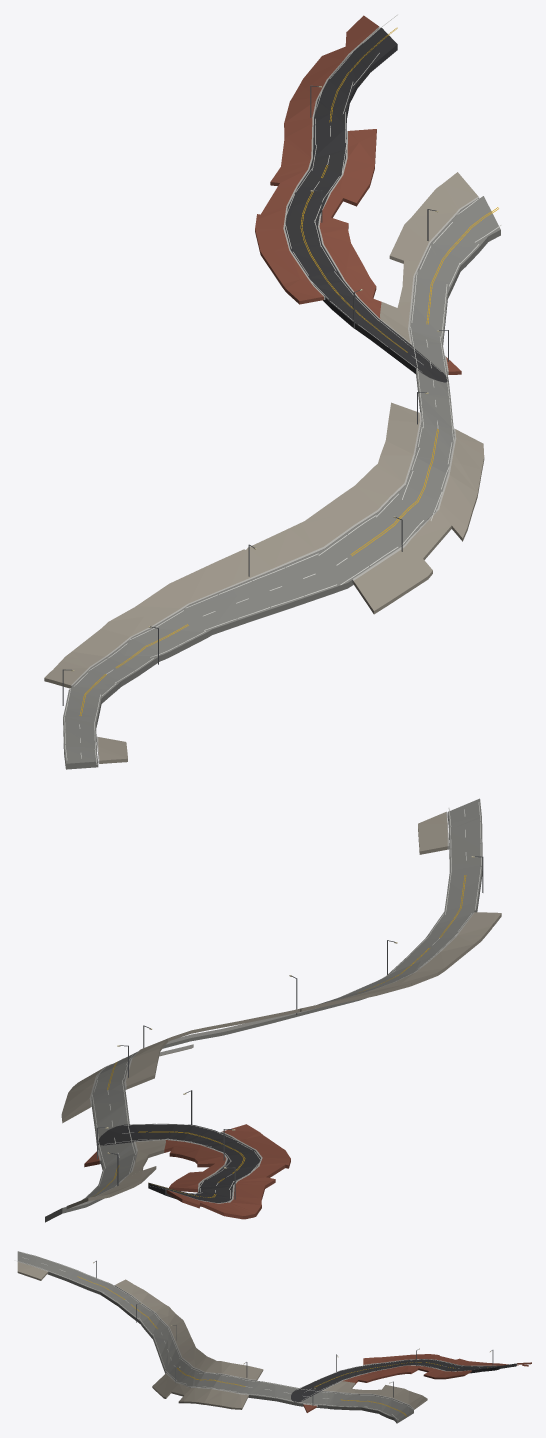
3 views of the same model, one above another, from view 1: azimuth 30°, elevation 25°; view 2: azimuth 210°, elevation 25°; view 3: azimuth 270°, elevation 25° (orthographic). The views are drawn at different scales.
Size of the model in its own units: 180 by 49.29 by 194.
